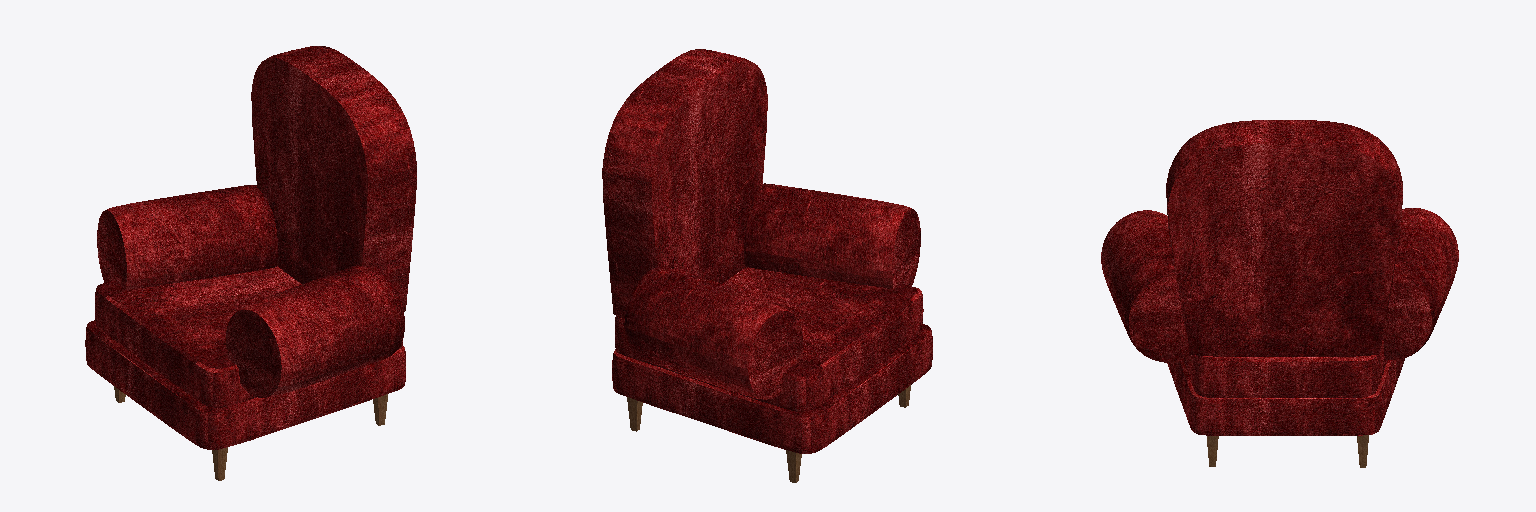
3 renders of one model, left to right at view 1: azimuth 30°, elevation 25°; view 2: azimuth 150°, elevation 25°; view 3: azimuth 270°, elevation 25°, orthographic.
Visible parts, largest first — view 1: polySurface170; view 2: polySurface170; view 3: polySurface170.
Boxes of the visible parts, x1=… form: polySurface170: x1=85, y1=46, x2=416, y2=480; polySurface170: x1=602, y1=49, x2=932, y2=482; polySurface170: x1=1101, y1=120, x2=1458, y2=467.
Bounding box in the file's own units: 0.7335 × 1.03 × 1.01.
2 materials, 2 textured.